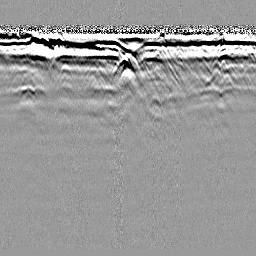cavity: (111, 52, 143, 81)
